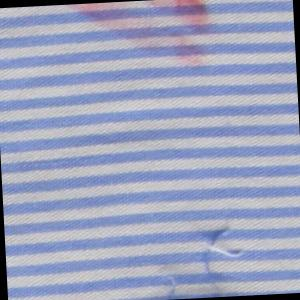Damage: (160, 221, 253, 300)
Stain: (66, 1, 216, 75)
